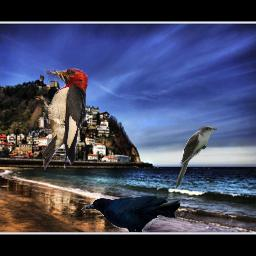Crow: (81, 195, 180, 232)
Cuckoo: (174, 125, 217, 189)
Woodpecker: (35, 68, 88, 170)
